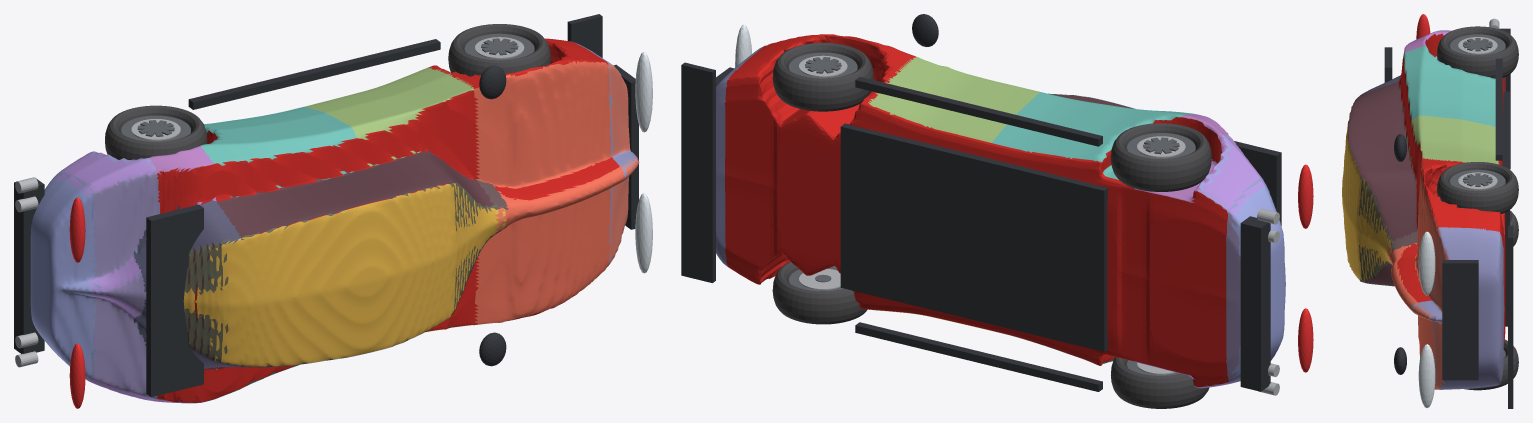
The model's file is modern_car_v2_track.glb.
3 renders of one model, left to right at view 1: azimuth 30°, elevation 25°; view 2: azimuth 150°, elevation 25°; view 3: azimuth 270°, elevation 25°, orthographic. The views are drawn at different scales.
Parts seen in each view (by area): view 1: panel_roof, panel_hood, body, panel_rear_hatch, greenhouse_glass, rear_spoiler, panel_rear_door_right, panel_rear_quarter_right, panel_front_door_right, side_skirt_R, rear_R_tyre, rear_diffuser (+14 smaller); view 2: body, underbody, front_splitter, panel_front_door_right, panel_rear_door_right, rear_diffuser, rear_R_tyre, front_R_tyre, panel_rear_hatch, panel_rear_quarter_right, front_L_tyre, side_skirt_L (+11 smaller); view 3: body, greenhouse_glass, panel_front_bumper, panel_rear_door_right, front_grille, panel_roof, panel_hood, panel_front_door_right, front_R_tyre, rear_R_tyre, front_splitter, underbody (+15 smaller).
Part boxes in pixels (x1=…): panel_roof: x1=183, y1=183, x2=506, y2=366; panel_hood: x1=474, y1=61, x2=639, y2=325; body: x1=157, y1=38, x2=620, y2=402; panel_rear_hatch: x1=30, y1=151, x2=159, y2=400; greenhouse_glass: x1=133, y1=149, x2=509, y2=369; rear_spoiler: x1=146, y1=204, x2=203, y2=397; panel_rear_door_right: x1=200, y1=107, x2=356, y2=197; panel_rear_quarter_right: x1=52, y1=146, x2=240, y2=291; panel_front_door_right: x1=304, y1=67, x2=474, y2=166; side_skirt_R: x1=188, y1=39, x2=440, y2=109; rear_R_tyre: x1=105, y1=105, x2=207, y2=159; rear_diffuser: x1=14, y1=178, x2=44, y2=353; body: x1=725, y1=34, x2=1228, y2=387; underbody: x1=840, y1=123, x2=1108, y2=351; front_splitter: x1=681, y1=62, x2=715, y2=282; panel_front_door_right: x1=868, y1=56, x2=1039, y2=142; panel_rear_door_right: x1=992, y1=92, x2=1193, y2=179; rear_diffuser: x1=1240, y1=216, x2=1270, y2=391; rear_R_tyre: x1=1111, y1=123, x2=1211, y2=191; front_R_tyre: x1=772, y1=42, x2=873, y2=111; panel_rear_hatch: x1=1197, y1=135, x2=1285, y2=388; panel_rear_quarter_right: x1=1134, y1=114, x2=1265, y2=216; front_L_tyre: x1=772, y1=261, x2=867, y2=324; side_skirt_L: x1=855, y1=322, x2=1102, y2=391; body: x1=1348, y1=33, x2=1505, y2=343; greenhouse_glass: x1=1347, y1=75, x2=1417, y2=286; panel_front_bumper: x1=1411, y1=227, x2=1504, y2=389; panel_rear_door_right: x1=1400, y1=46, x2=1495, y2=142; front_grille: x1=1442, y1=260, x2=1478, y2=380; panel_roof: x1=1342, y1=102, x2=1393, y2=281; panel_hood: x1=1387, y1=159, x2=1448, y2=389; panel_front_door_right: x1=1408, y1=115, x2=1498, y2=170; front_R_tyre: x1=1437, y1=162, x2=1518, y2=213; rear_R_tyre: x1=1437, y1=26, x2=1518, y2=78; front_splitter: x1=1508, y1=225, x2=1513, y2=408; underbody: x1=1502, y1=91, x2=1509, y2=326.
Bounding box in the file's own units: 4.56 × 2.2 × 1.47.
